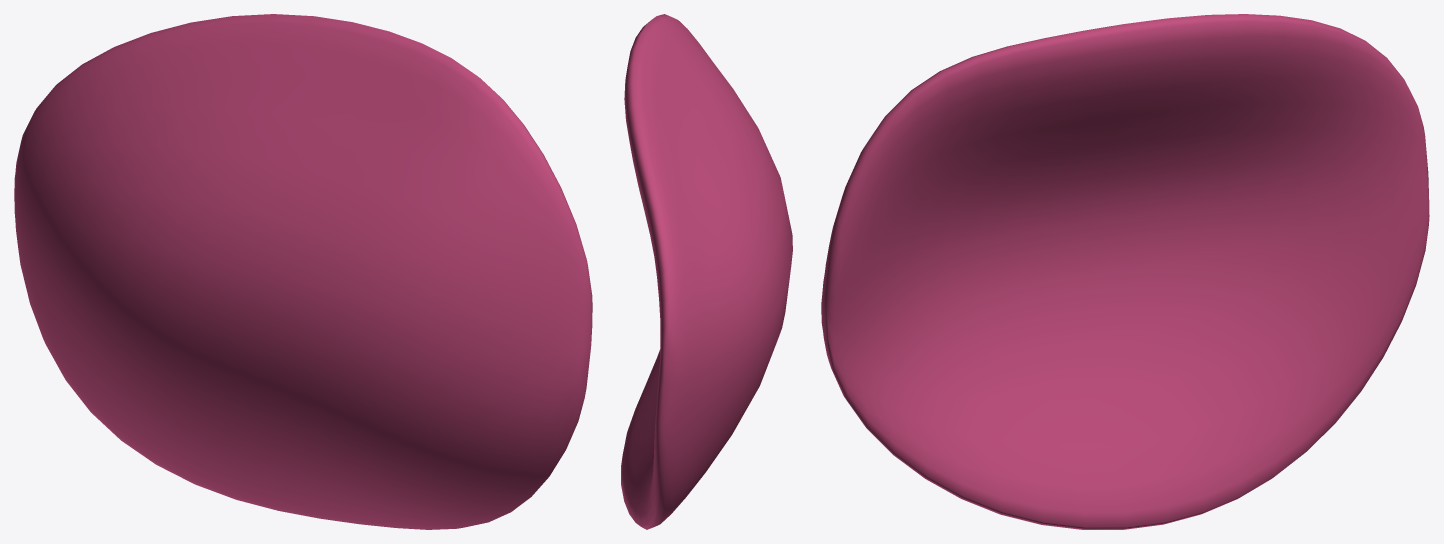
3 renders of one model, left to right at view 1: azimuth 30°, elevation 25°; view 2: azimuth 150°, elevation 25°; view 3: azimuth 270°, elevation 25°, orthographic. The views are drawn at different scales.
Parts seen in each view (by area): view 1: 右侧臀小肌转子囊; view 2: 右侧臀小肌转子囊; view 3: 右侧臀小肌转子囊.
Part boxes in pixels (box(x1,y1,x2,y2)): 右侧臀小肌转子囊: box(14, 14, 592, 529); 右侧臀小肌转子囊: box(621, 14, 792, 529); 右侧臀小肌转子囊: box(821, 14, 1429, 529).
Bounding box in the file's own units: 0.0172 × 0.0279 × 0.0303.
